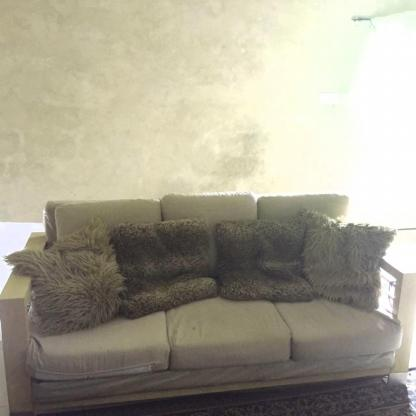Sofa: (3, 193, 411, 411)
